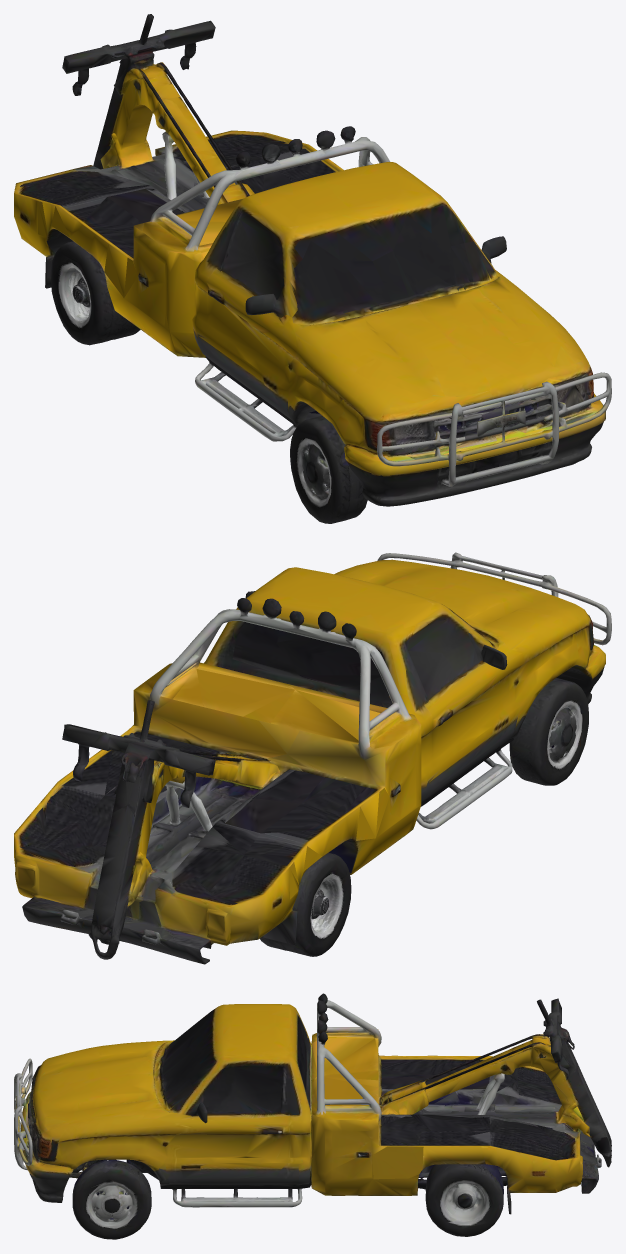
Rendered from VEH_M_GoldTowRig.glb.
3 renders of one model, top to bottom at view 1: azimuth 30°, elevation 25°; view 2: azimuth 150°, elevation 25°; view 3: azimuth 270°, elevation 25°, orthographic. The views are drawn at different scales.
Visible parts, largest first — view 1: VEH_M_GoldTowRig; view 2: VEH_M_GoldTowRig; view 3: VEH_M_GoldTowRig.
Boxes of the visible parts, box(x1,y1,x2,y2) form: VEH_M_GoldTowRig: box(14, 14, 611, 523); VEH_M_GoldTowRig: box(14, 552, 611, 964); VEH_M_GoldTowRig: box(14, 993, 611, 1239).
Bounding box in the file's own units: 2.08 × 2.02 × 5.6.
1 material, 1 textured.
